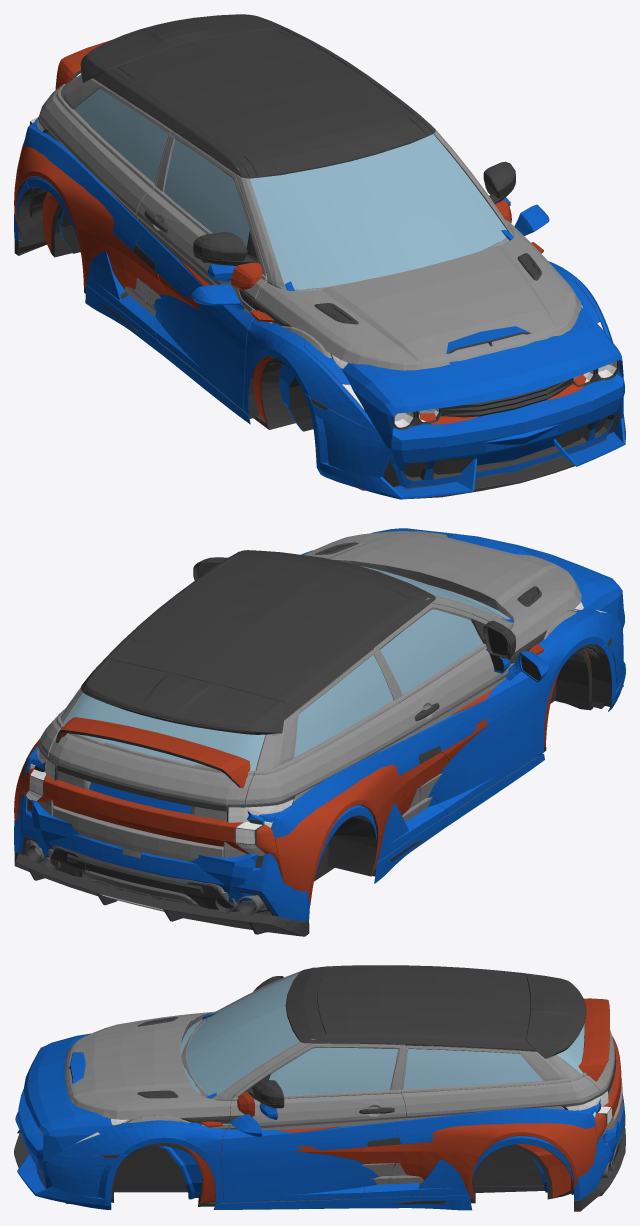
File: Cars.fbx
3 views of the same model, one above another, from view 1: azimuth 30°, elevation 25°; view 2: azimuth 150°, elevation 25°; view 3: azimuth 270°, elevation 25° (orthographic). The views are drawn at different scales.
Parts seen in each view (by area): view 1: Car-03, Car-05, Car-01, Car-04, Car-02; view 2: Car-03, Car-05, Car-04, Car-01, Car-02; view 3: Car-03, Car-05, Car-04, Car-01, Car-02.
Part boxes in pixels (left/top/right/bottom): Car-03: left=29, top=14, right=582, bottom=413; Car-05: left=14, top=120, right=625, bottom=499; Car-01: left=35, top=118, right=624, bottom=498; Car-04: left=14, top=117, right=599, bottom=490; Car-02: left=42, top=40, right=511, bottom=364; Car-03: left=30, top=531, right=600, bottom=912; Car-05: left=14, top=550, right=625, bottom=936; Car-04: left=14, top=643, right=623, bottom=916; Car-01: left=31, top=528, right=624, bottom=902; Car-02: left=55, top=649, right=591, bottom=788; Car-03: left=65, top=965, right=622, bottom=1200; Car-05: left=14, top=1013, right=625, bottom=1211; Car-04: left=37, top=1036, right=621, bottom=1206; Car-01: left=18, top=1033, right=618, bottom=1199; Car-02: left=111, top=998, right=609, bottom=1202.
Bounding box in the file's own units: 346 × 204 × 679.
